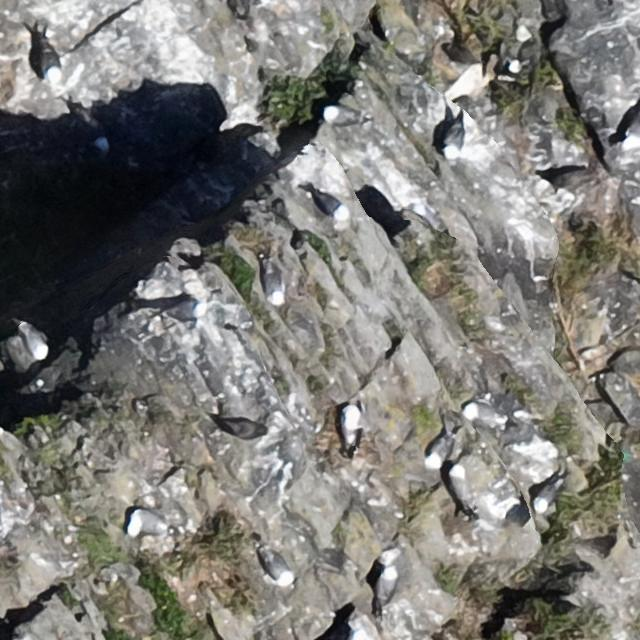umineko: (449, 464, 477, 519), (464, 399, 511, 428), (441, 117, 464, 160), (262, 258, 283, 304), (264, 554, 292, 585), (128, 512, 167, 534), (316, 192, 347, 218), (167, 302, 206, 320), (377, 568, 396, 602), (41, 46, 60, 80), (24, 329, 46, 358), (536, 484, 558, 512), (341, 408, 358, 444), (621, 118, 639, 151), (428, 437, 449, 465), (325, 108, 356, 125)
